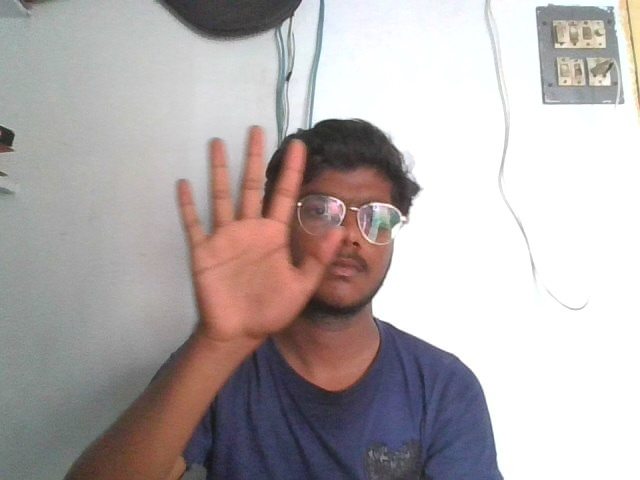Hello: (174, 120, 346, 337)
